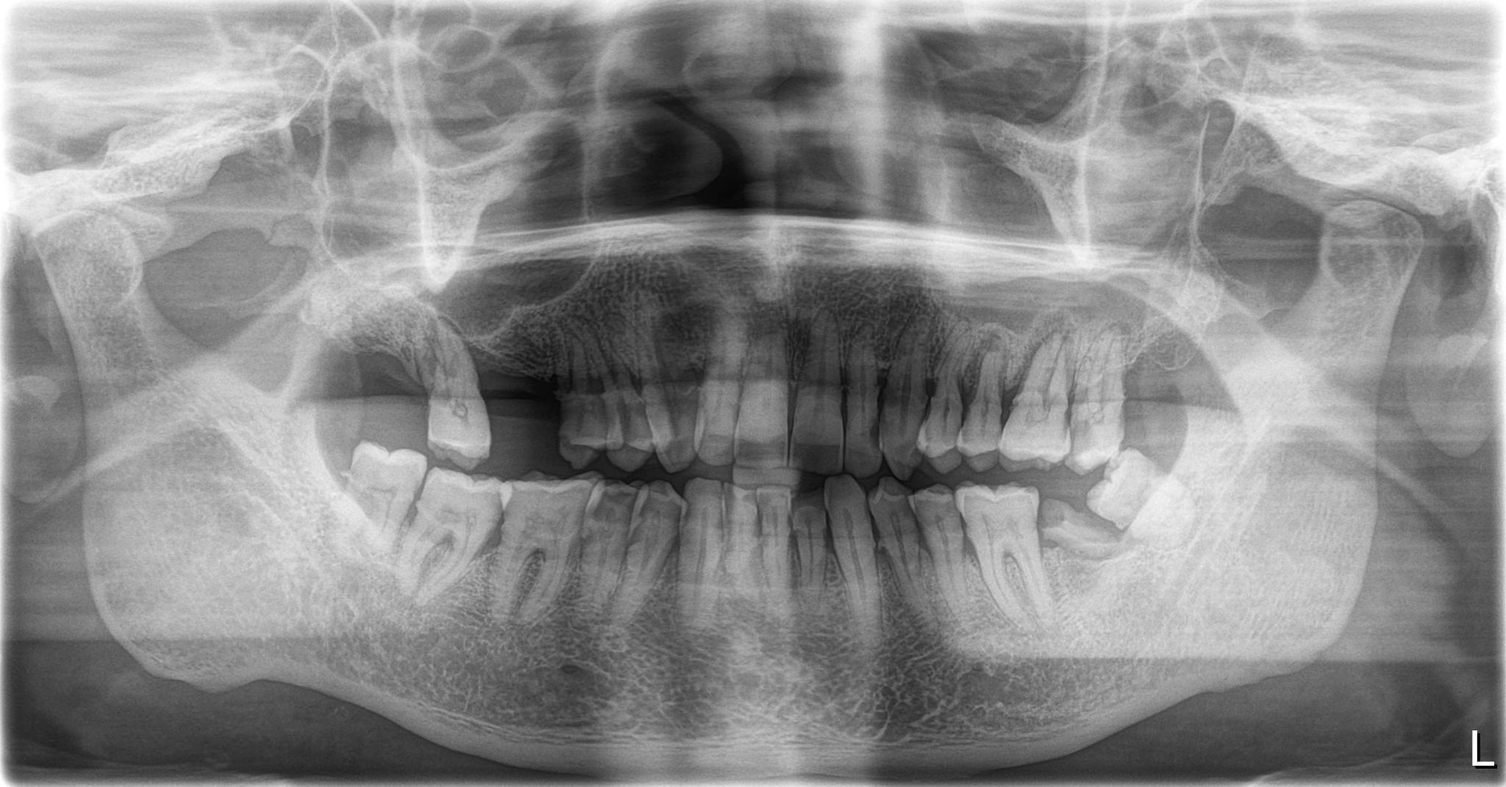Dental Caries: (1029, 378, 1063, 427), (445, 393, 476, 434)
Impacted Third Molar: (342, 450, 424, 555), (1095, 459, 1199, 538), (1041, 503, 1116, 559)
Missing Tooth: (333, 334, 424, 440), (486, 338, 565, 450), (1121, 349, 1183, 444)
